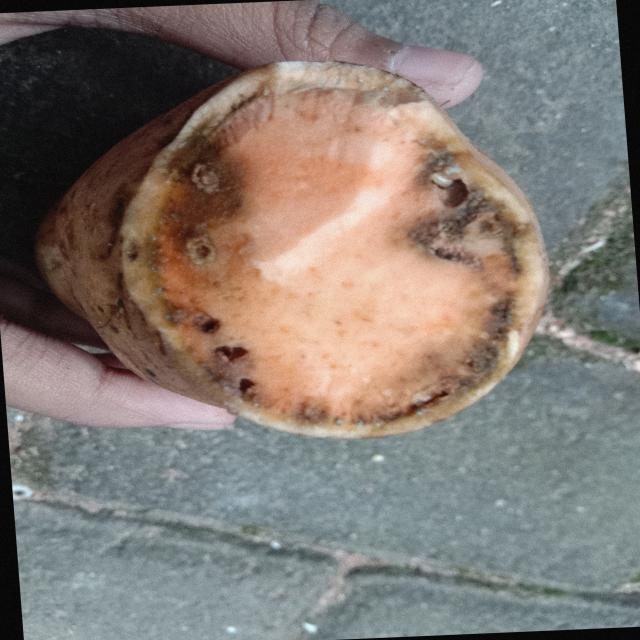Sick Sweet Potato_Tuber Rot: (122, 61, 548, 438)
